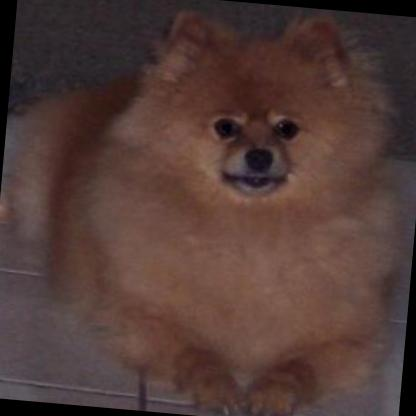Pomeranian: (1, 0, 416, 416)
